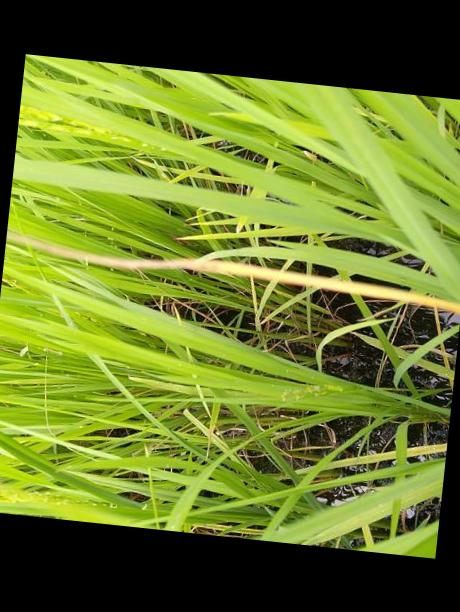Leaf Blight: (5, 229, 460, 314)
